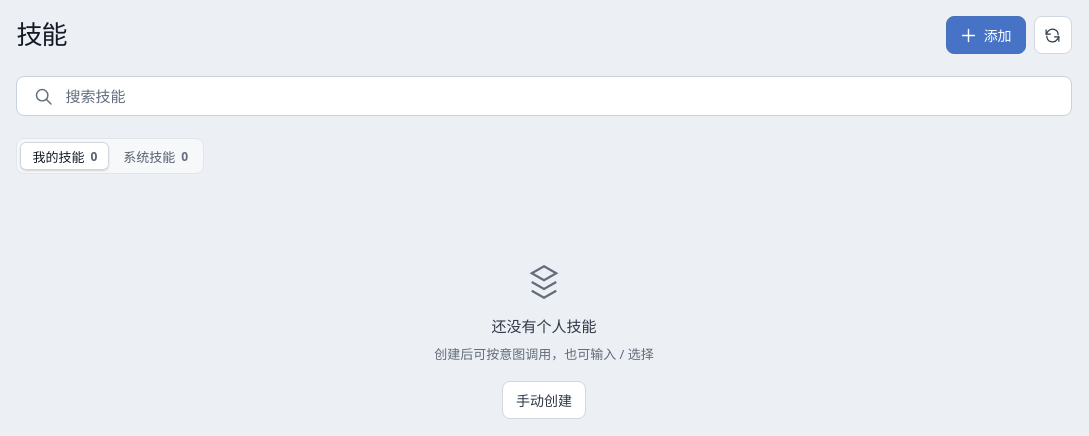
Test: 技能管理页 › 两类技能分别呈现空状态
Expected: the text "还没有个人技能" is shown, x1=492 y1=315 x2=596 y2=336
Expected: the button "手动创建" is shown, x1=502 y1=381 x2=586 y2=419
What coordinates should you click on to do the following:
click the tab "系统技能 0"
I would click on:
 (156, 156)
Its box is x1=111 y1=142 x2=200 y2=170.
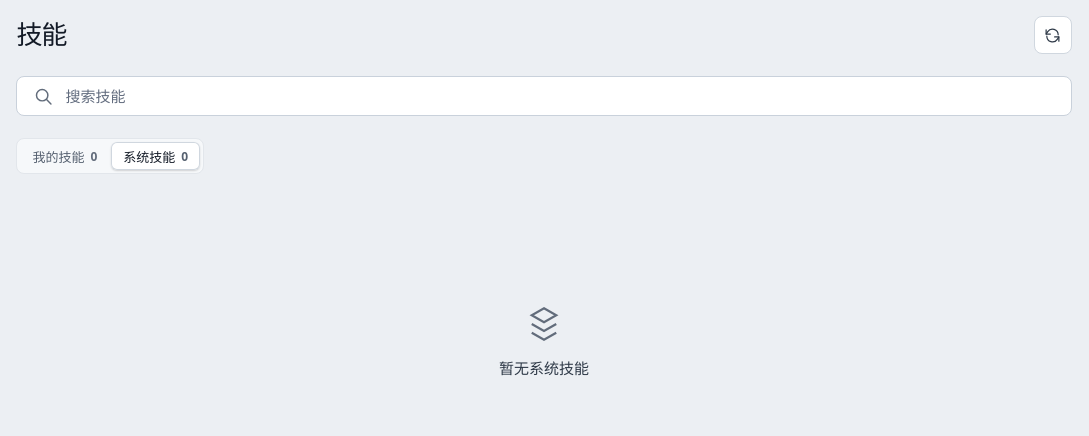
Expected: the text "暂无系统技能" is shown, x1=499 y1=356 x2=589 y2=378
Expected: the button "手动创建" is gone
